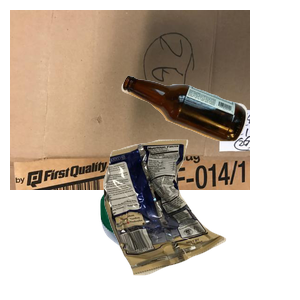cardboard: (10, 10, 250, 190)
glass: (119, 73, 300, 207)
plastic: (98, 176, 266, 300)
trash: (101, 137, 300, 300)
